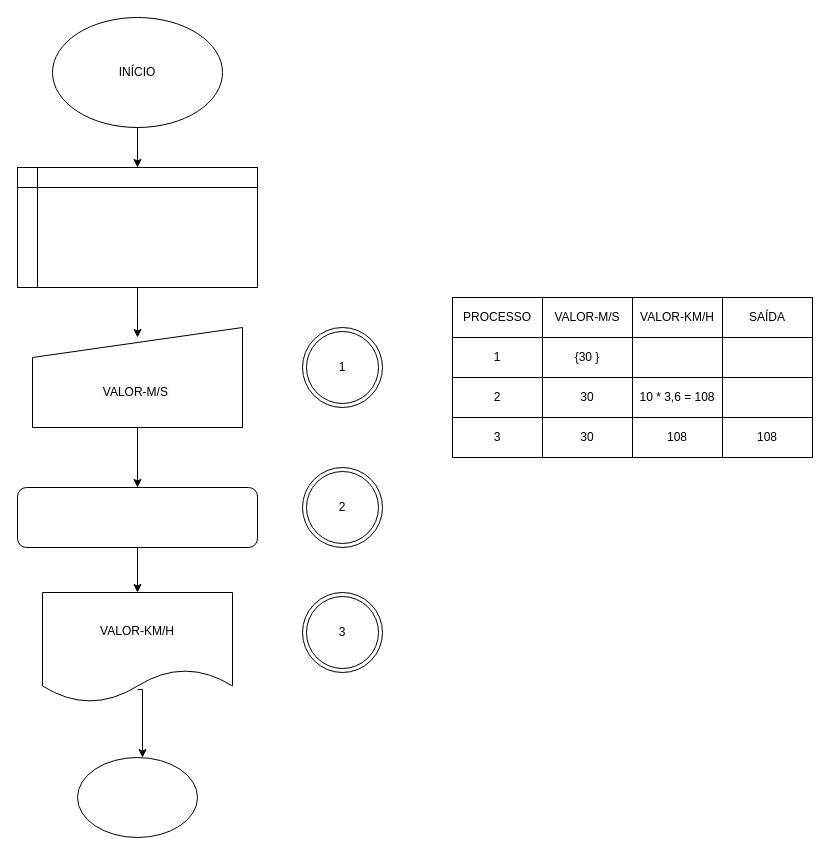
This 830x855 diagram has some shape labels left out. Each missing label, with the centre of its shape:
FIM: the point at 137,797
VALOR-M/S * 3,6 = VALOR-KM/H: the point at 137,517
VALOR-M/S, VALOR-KM/H: the point at 137,227
